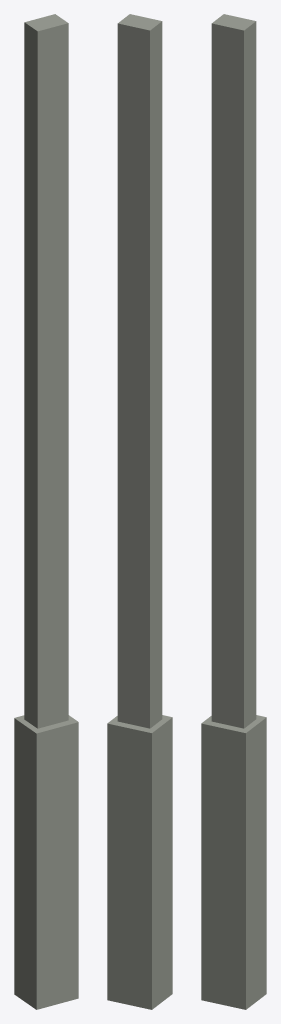
Rendered from SM_Road_Sign_Pillar_01.fbx.
The picture shows the model from 3 angles, left to right: view 1: azimuth 30°, elevation 25°; view 2: azimuth 150°, elevation 25°; view 3: azimuth 330°, elevation 25°; orthographic projection.
Visible parts, largest first — view 1: SM_Road_Sign_Pillar_01; view 2: SM_Road_Sign_Pillar_01; view 3: SM_Road_Sign_Pillar_01.
Boxes of the visible parts, x1,y1,x2,y2 form: SM_Road_Sign_Pillar_01: [14, 14, 78, 1009]; SM_Road_Sign_Pillar_01: [107, 14, 172, 1009]; SM_Road_Sign_Pillar_01: [201, 14, 266, 1009].
Size of the model in its own units: 8.72 by 183 by 7.77.
